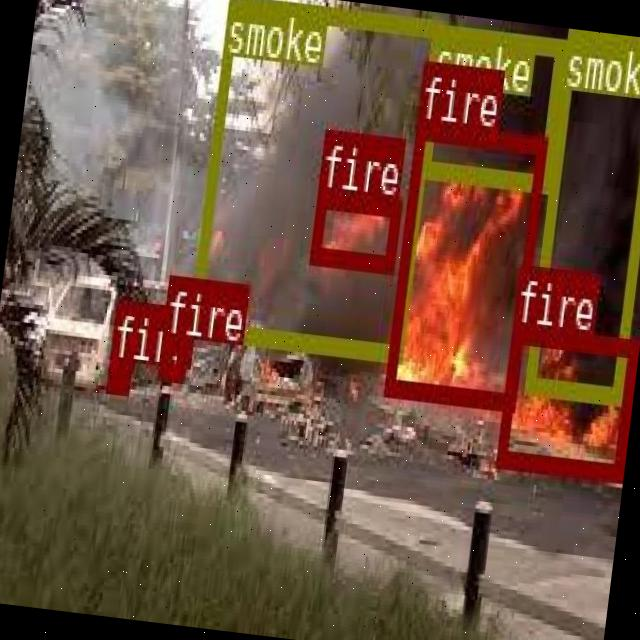fire: (382, 117, 546, 406), (494, 324, 636, 476), (308, 188, 401, 270), (155, 332, 186, 377), (106, 359, 131, 392)
smoke: (186, 0, 441, 359), (523, 28, 640, 399), (416, 20, 564, 186)
